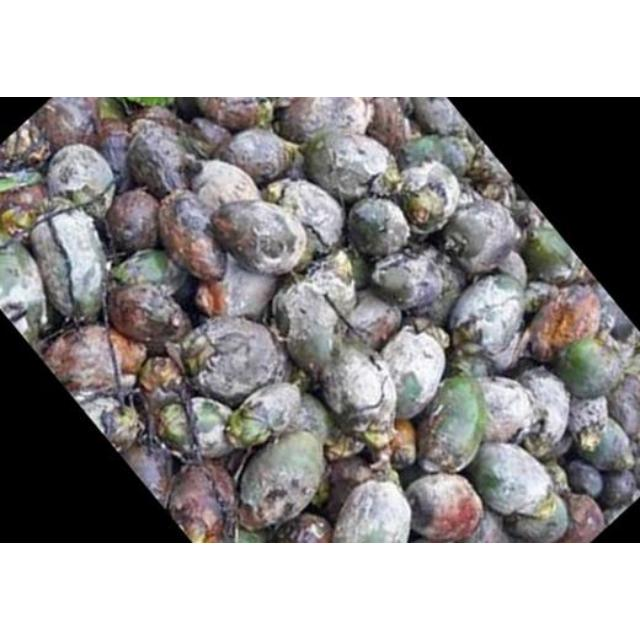damaged: (236, 428, 328, 530), (185, 315, 288, 405), (273, 271, 357, 373), (318, 342, 399, 438), (212, 198, 308, 276), (447, 274, 528, 362), (156, 190, 230, 282), (417, 377, 488, 471), (300, 130, 392, 202), (377, 327, 447, 418), (468, 442, 554, 516), (440, 199, 522, 275), (42, 324, 128, 396), (524, 284, 600, 362), (403, 471, 485, 541), (106, 279, 190, 347), (166, 462, 236, 542), (126, 120, 197, 198), (368, 246, 450, 312), (45, 142, 117, 215), (219, 126, 303, 186), (393, 159, 462, 231), (514, 372, 572, 452), (208, 260, 282, 322), (552, 336, 622, 398), (322, 456, 386, 520), (474, 377, 534, 445), (176, 398, 240, 460), (346, 197, 410, 259), (520, 221, 580, 285), (500, 491, 570, 544), (188, 160, 262, 210), (276, 98, 364, 140), (105, 188, 162, 252), (36, 98, 100, 152), (283, 394, 333, 458), (400, 133, 472, 177), (576, 417, 634, 471), (111, 247, 181, 291), (344, 294, 400, 348), (98, 396, 146, 452), (552, 494, 604, 544), (153, 399, 197, 456), (194, 98, 270, 130), (365, 98, 409, 148), (136, 354, 186, 396), (409, 98, 463, 136), (610, 375, 640, 437), (314, 248, 358, 290), (599, 470, 637, 508), (566, 460, 602, 498)
